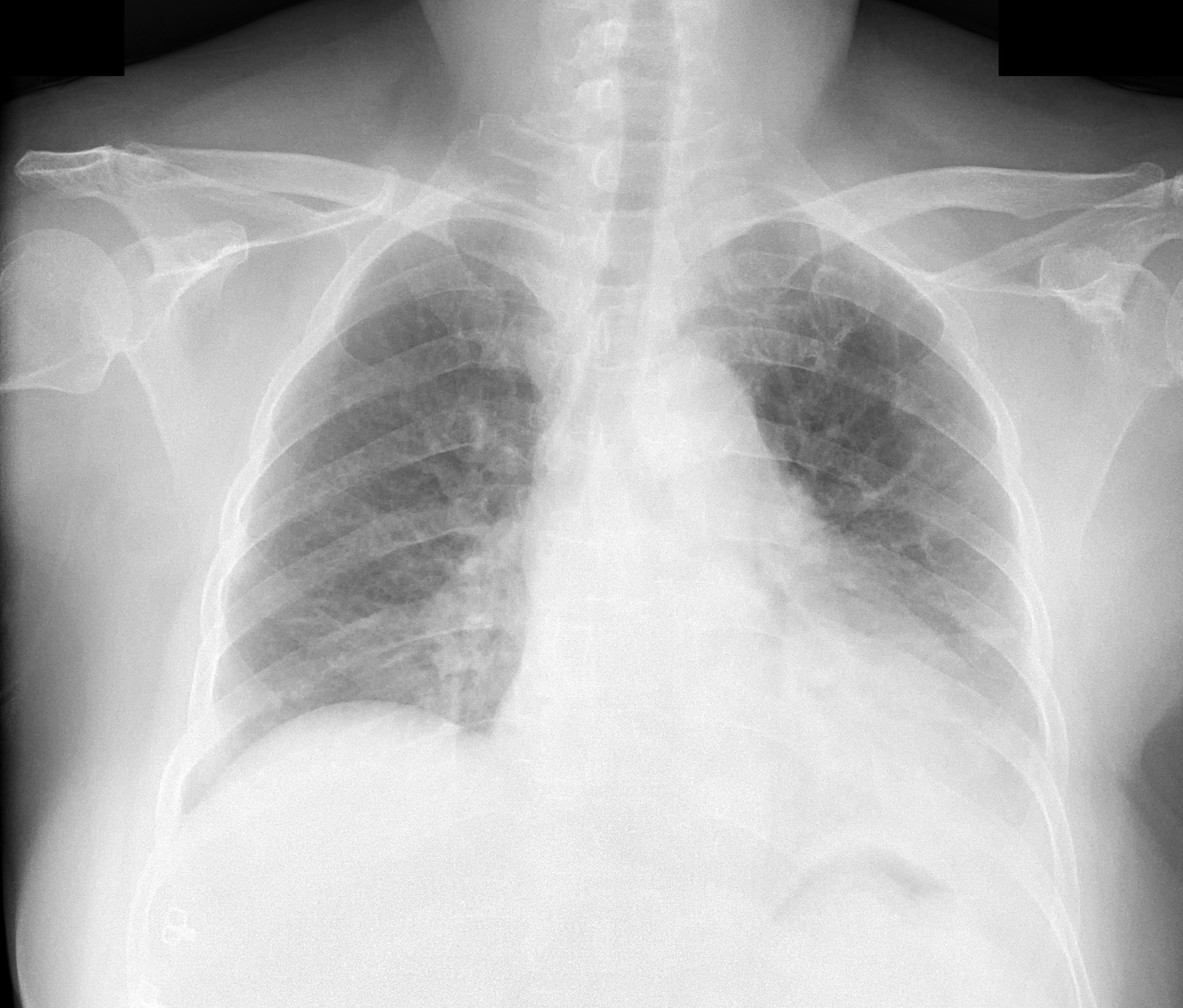Aortic enlargement: (633, 350, 764, 486)
Cardiomegaly: (480, 623, 996, 844)
